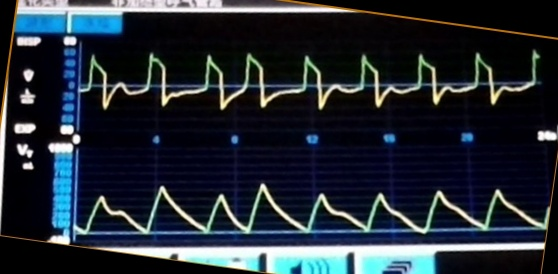Premature_cycling Flow: (82, 49, 541, 120)
Premature_cycling Volume: (78, 175, 544, 238)
